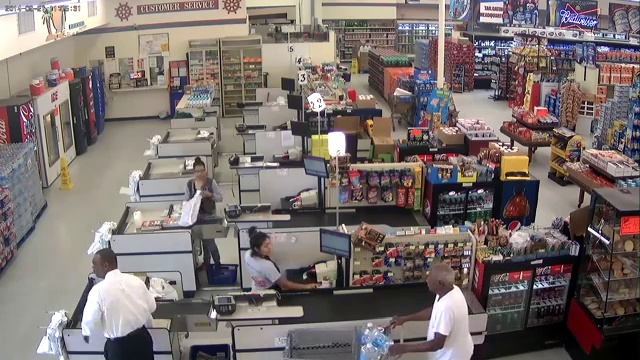face: (424, 266, 440, 293), (89, 255, 103, 281), (191, 165, 206, 179), (258, 241, 271, 255)
